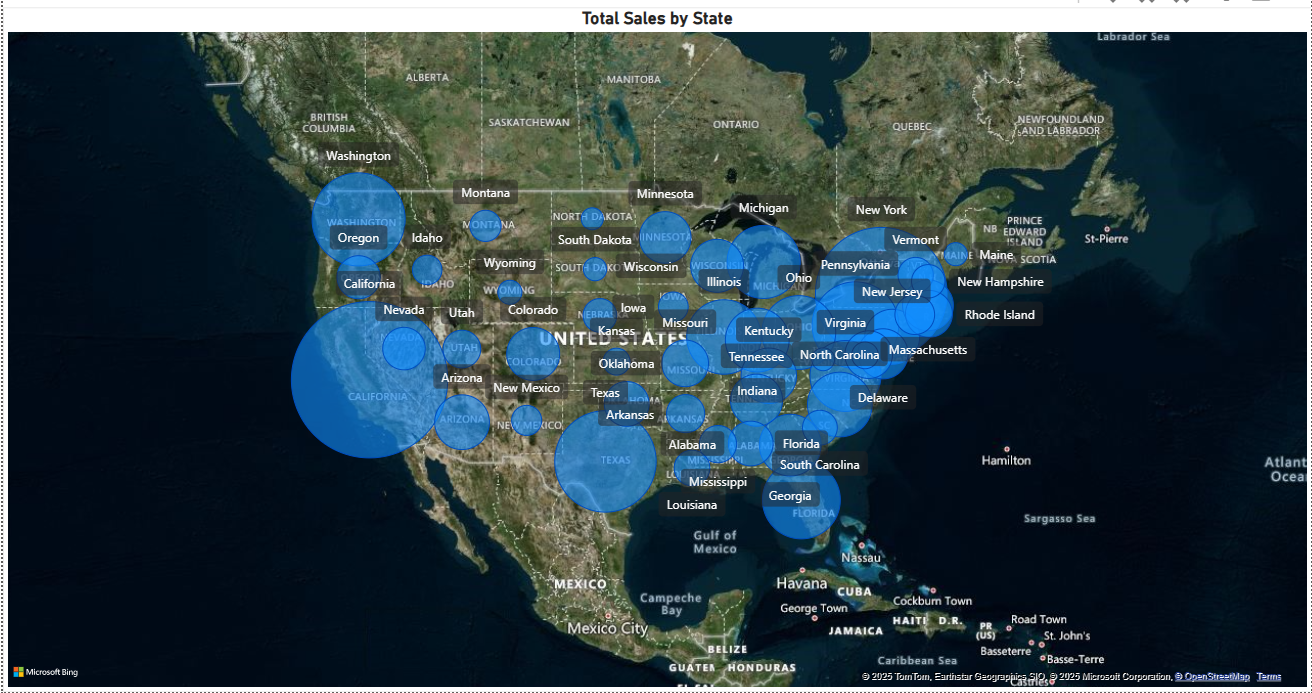

The dashboard page shown, as its layout file describes it:
{"tool":"powerbi","page":{"name":"Page 5","canvas":[1280,720],"ordinal":4},"visuals":[{"type":"map","fields":{"Category":["Orders.State","Orders.City"],"Size":["Orders.Total Sales"]},"box":[0,50.1,1280.3,670.1],"z":2}]}

Visuals, with their boxes on the page's 1280x720 design canvas (x1, y1, x2, y2). These are canvas units, not pixel positions in the 1312x693 screenshot, which may show the page scaled, cropped or inside an application window:
map - Orders.State x Orders.City: <region>0, 50, 1280, 720</region>
